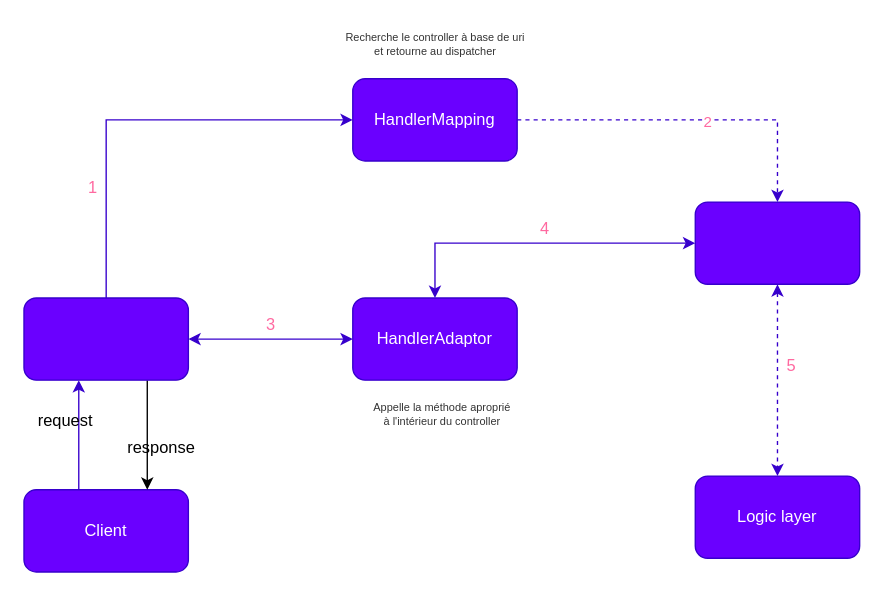
This 884x596 diagram has some shape labels left out. The shapes that lost their labels are listed below. From the top down, each one's centre as x and y in pixels, then its label:
point (777, 242): Controller
point (105, 338): DispatcherServlet
